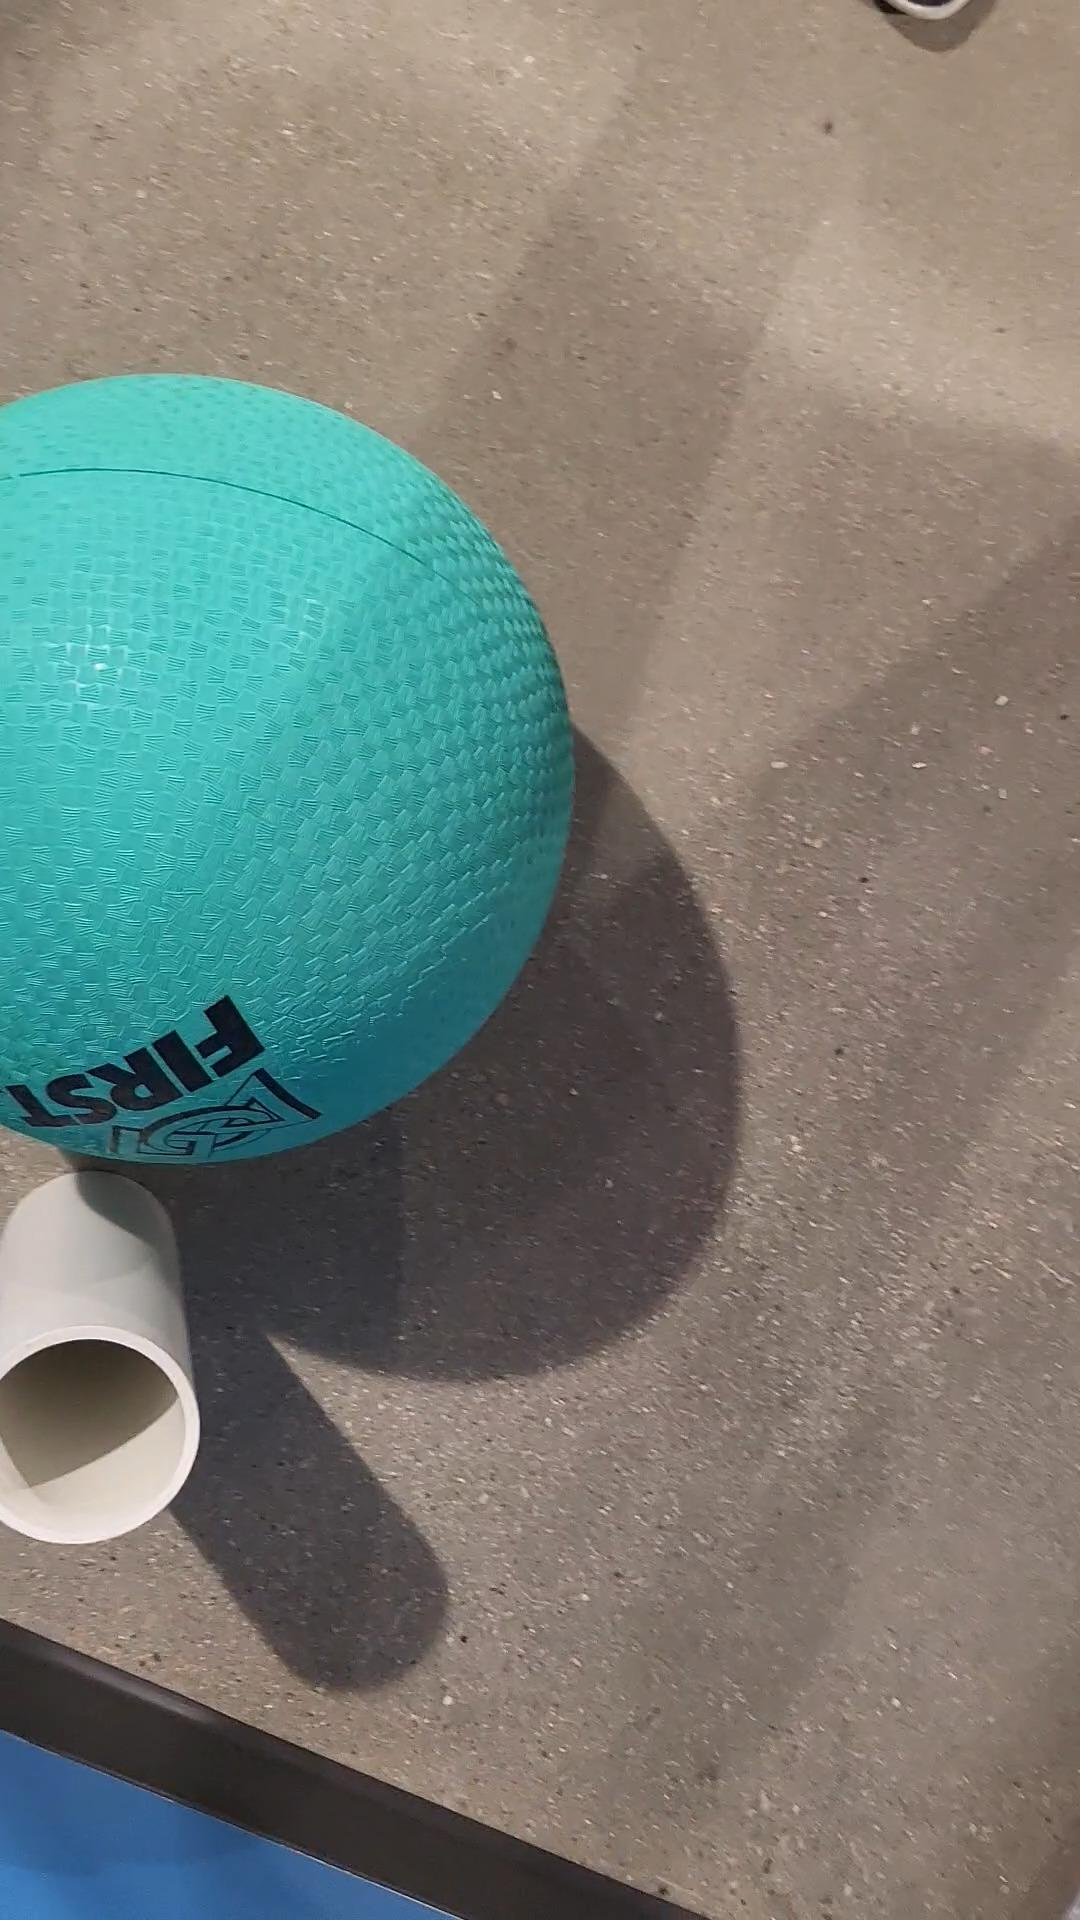algae: (0, 371, 560, 1170)
coral: (0, 1175, 210, 1549)
